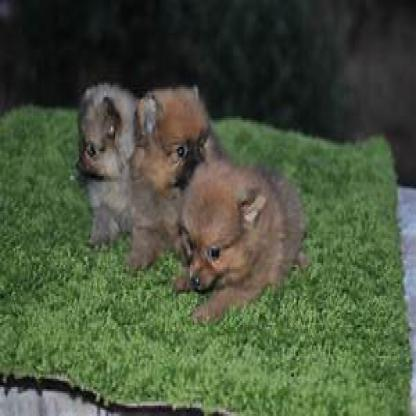dog: (180, 163, 305, 316), (134, 83, 211, 252), (72, 83, 132, 246)
